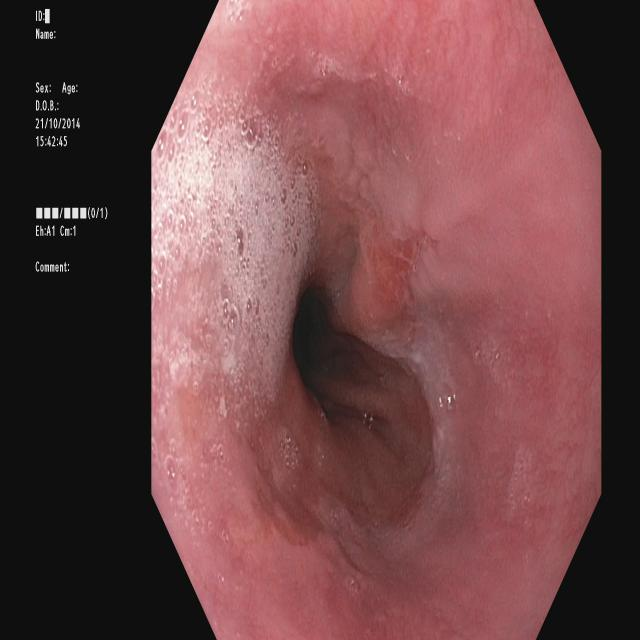esophagitis: (178, 140, 444, 547)
